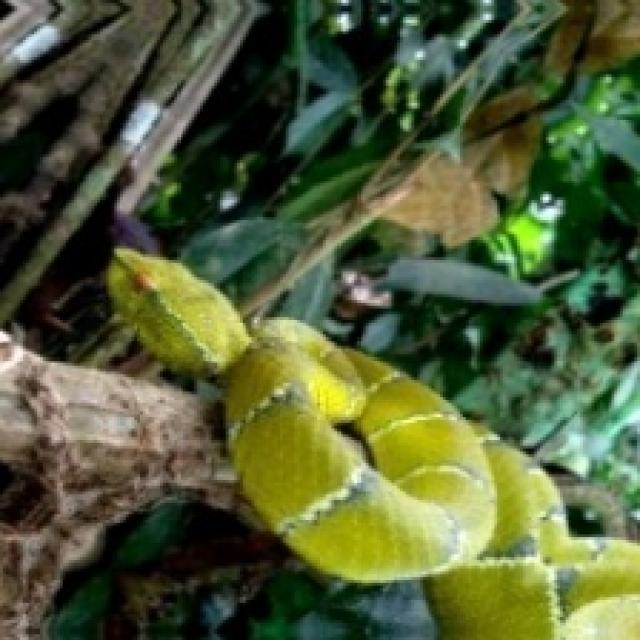north ph temple pitviper: (106, 249, 637, 637)
